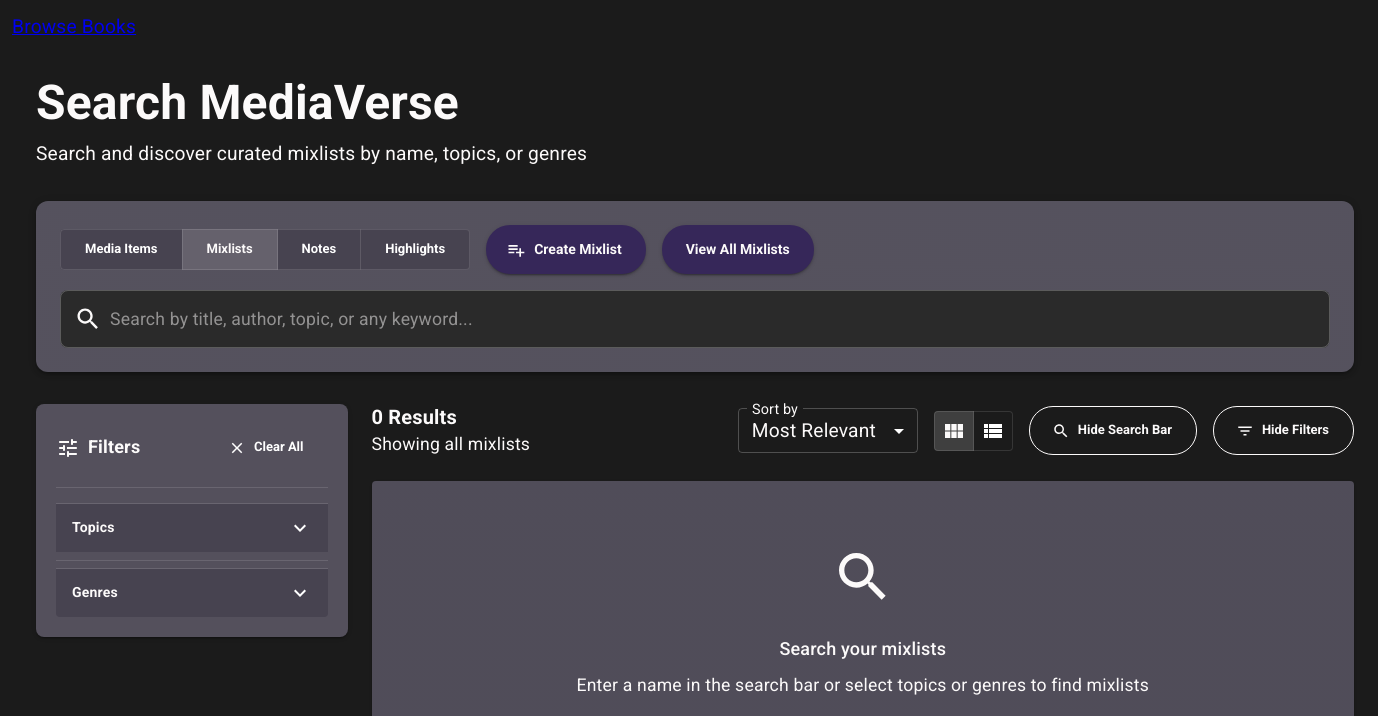
it: Search modes › reacts to URL changes while mounted (Browse Media menu bug)
Expected: the heading "Search your mixlists" is shown, [779,638,946,659]
// Navigating in-app to a media-type URL must switch mode and fetch — no refresh.
Click the link "Browse Books" at (74, 26), box [12,15,136,38]
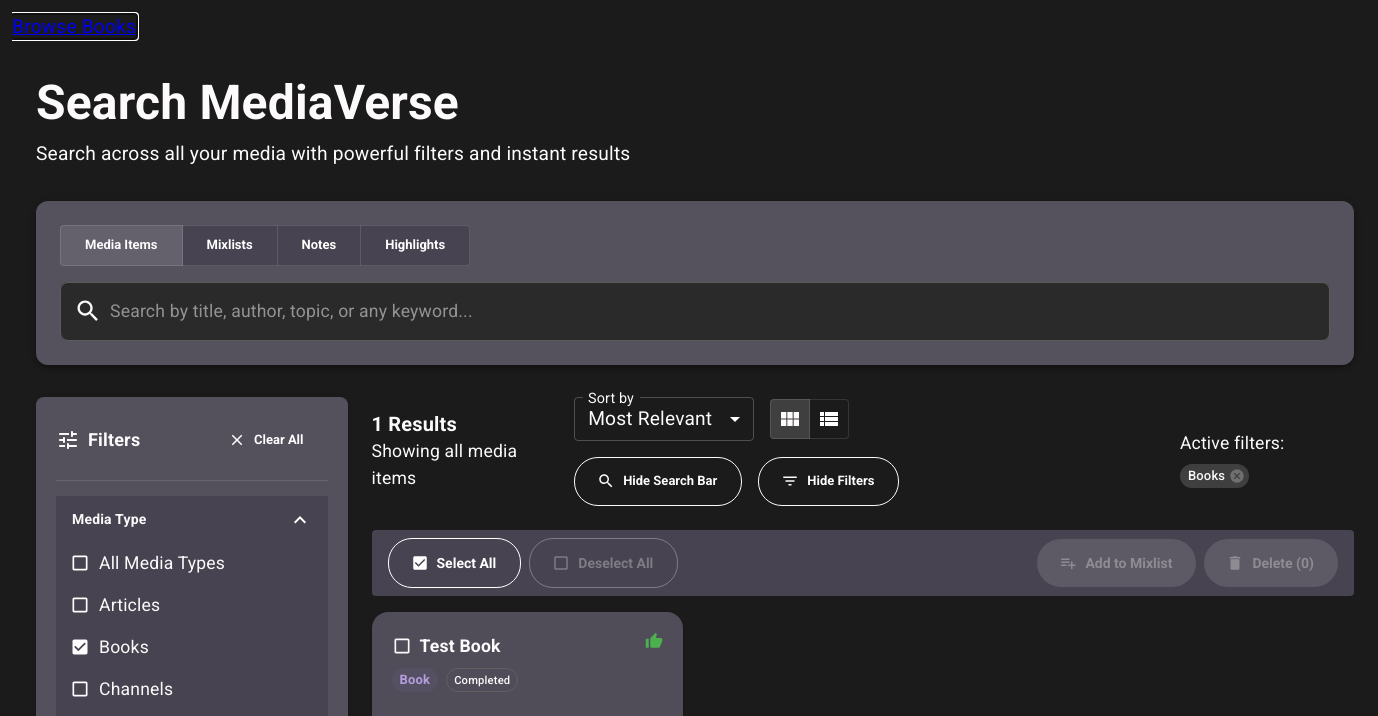
Now the heading "Test Book" is shown, box [420,632,501,660]
Now the heading "Search your mixlists" is gone
